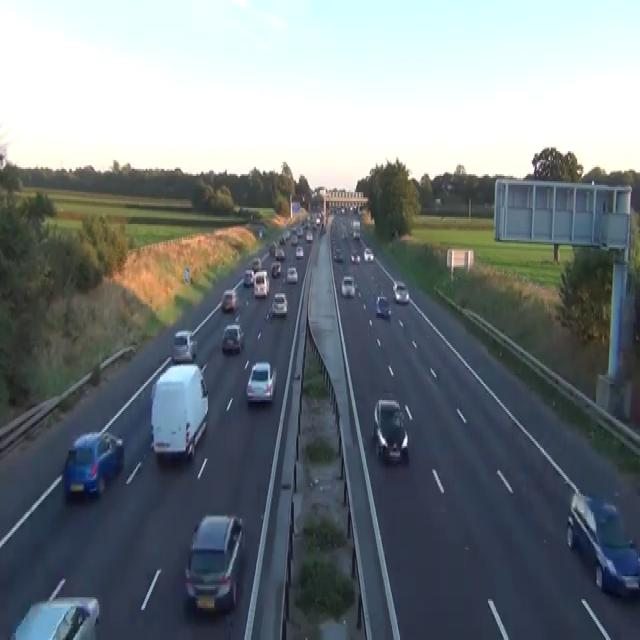Car: (280, 487, 368, 638), (566, 491, 639, 597), (183, 514, 245, 615), (9, 576, 99, 638), (63, 430, 124, 500), (373, 398, 408, 464), (245, 361, 277, 402), (171, 329, 197, 363), (221, 324, 244, 354), (253, 270, 269, 297), (392, 279, 409, 304), (221, 288, 237, 311), (340, 274, 356, 297), (376, 295, 391, 318), (272, 292, 287, 314), (286, 265, 297, 283), (243, 268, 254, 286), (332, 246, 343, 262), (270, 262, 281, 278), (0, 146, 7, 170), (363, 247, 374, 261), (350, 249, 360, 263), (275, 247, 285, 260), (252, 256, 261, 270), (295, 245, 304, 258), (305, 229, 313, 242), (269, 242, 276, 256), (290, 235, 298, 245), (319, 224, 326, 235), (283, 229, 290, 240), (446, 182, 455, 190), (278, 235, 285, 245), (296, 226, 303, 236), (341, 228, 347, 238), (353, 230, 360, 238), (353, 204, 359, 213), (290, 226, 297, 233), (258, 230, 262, 238), (341, 206, 345, 214)
Truck: (149, 362, 208, 460)
